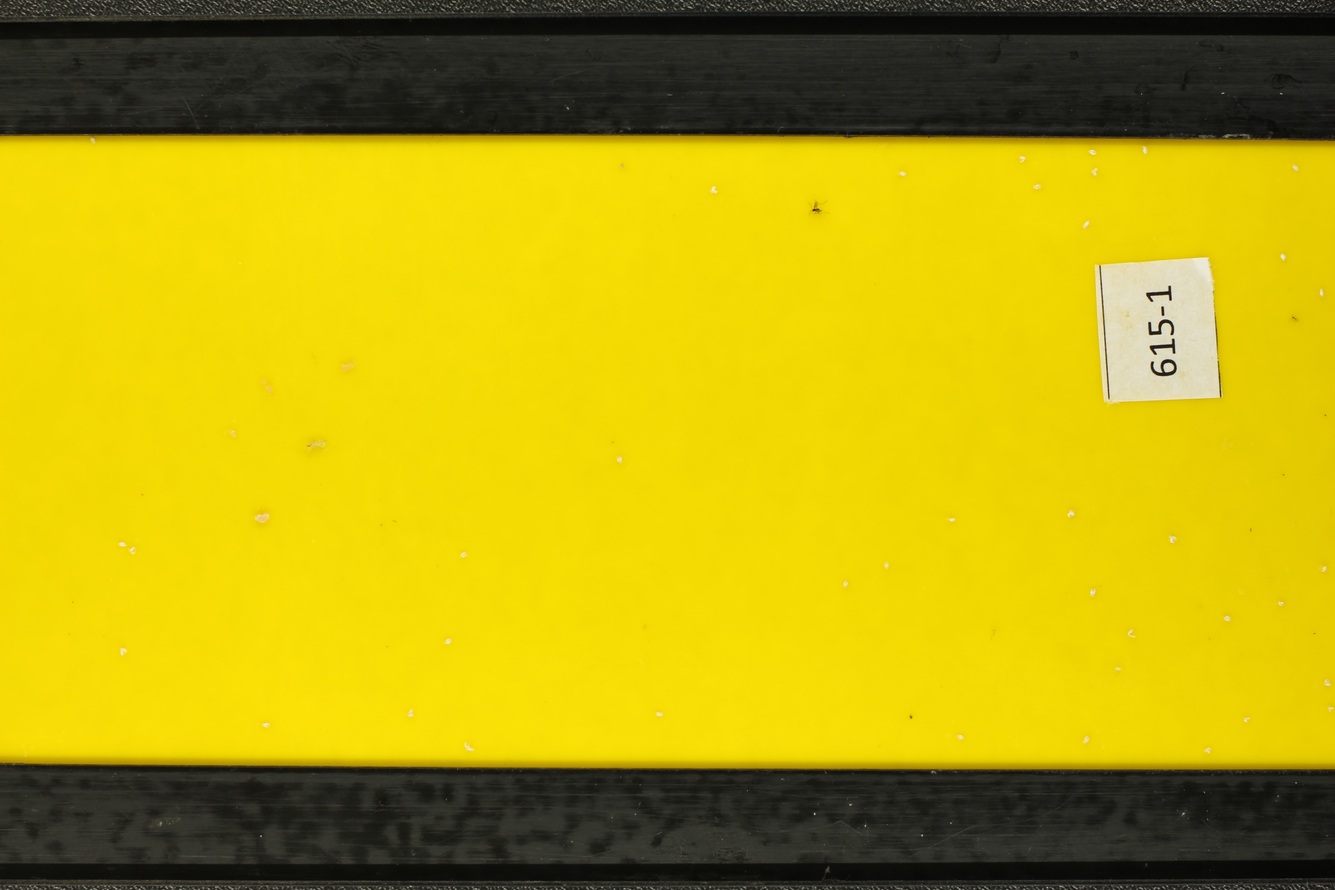WF: (1123, 624, 1144, 642), (1083, 583, 1103, 600), (1220, 610, 1237, 627), (460, 738, 479, 753), (252, 513, 275, 525), (1110, 661, 1128, 676), (85, 135, 104, 148), (115, 644, 131, 659), (1063, 506, 1079, 521), (943, 514, 961, 527), (1271, 595, 1289, 608), (1079, 216, 1094, 231), (1320, 675, 1335, 690), (652, 708, 668, 722), (1078, 732, 1094, 746), (1314, 562, 1331, 575), (1083, 148, 1104, 158), (1315, 286, 1330, 300), (839, 577, 855, 590), (1238, 714, 1255, 726), (707, 184, 721, 198), (1289, 162, 1303, 176), (1277, 251, 1291, 265), (1138, 143, 1153, 156), (404, 705, 417, 720), (457, 548, 470, 563), (1089, 165, 1103, 178), (127, 544, 141, 557), (612, 454, 627, 466), (953, 731, 968, 743), (1165, 534, 1181, 545), (260, 718, 273, 731), (897, 168, 911, 180), (1016, 153, 1030, 165), (445, 635, 456, 649), (881, 559, 892, 572), (1032, 182, 1046, 192), (1323, 702, 1335, 713), (1202, 746, 1216, 755), (115, 540, 126, 550)
